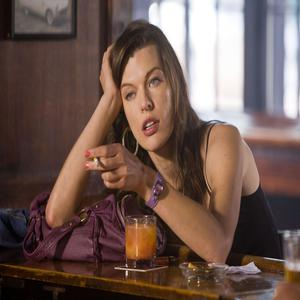cigarette: (89, 154, 103, 168)
